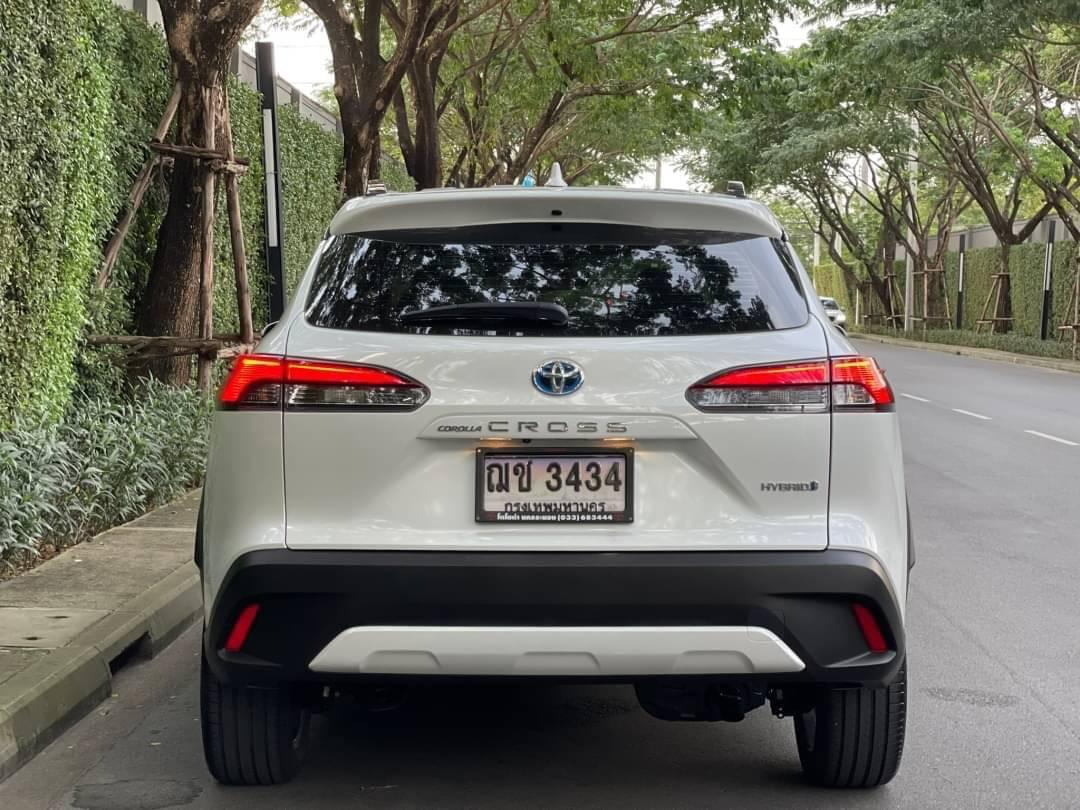license-plate: (475, 442, 634, 525)
